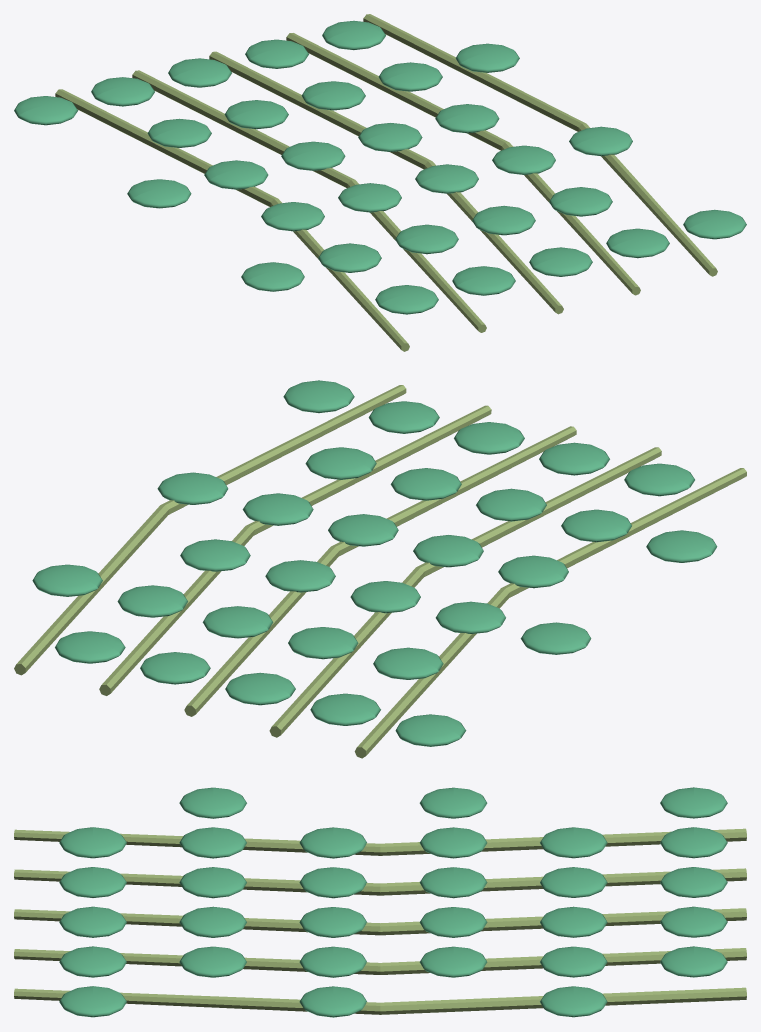
File: sea_purslane_mat_tropical_island_and_palm_trees_6832.glb
3 views of the same model, one above another, from view 1: azimuth 30°, elevation 25°; view 2: azimuth 150°, elevation 25°; view 3: azimuth 270°, elevation 25° (orthographic). The views are drawn at different scales.
Parts seen in each view (by area): view 1: sea-purslane; view 2: sea-purslane; view 3: sea-purslane.
Boxes of the visible parts, x1,y1,x2,y2 form: sea-purslane: (14,14,746,351); sea-purslane: (14,380,746,758); sea-purslane: (14,787,746,1017).
Size of the model in its own units: 1.03 by 0.0498 by 1.4.
